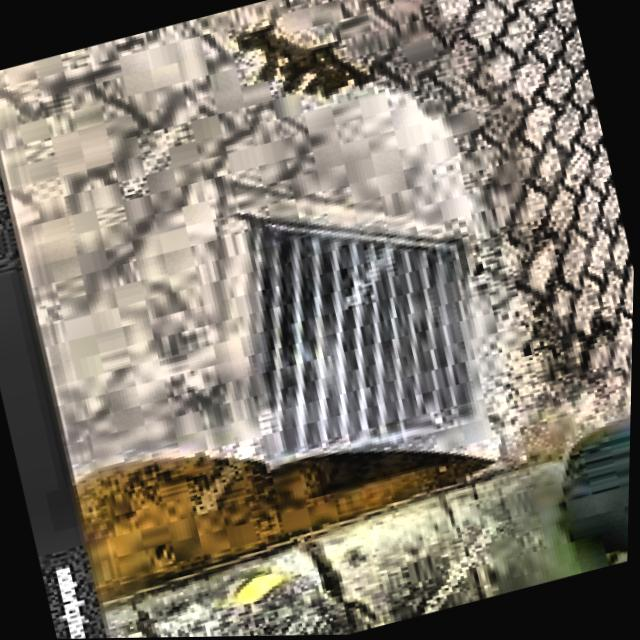clogged_drains: (244, 216, 476, 460)
